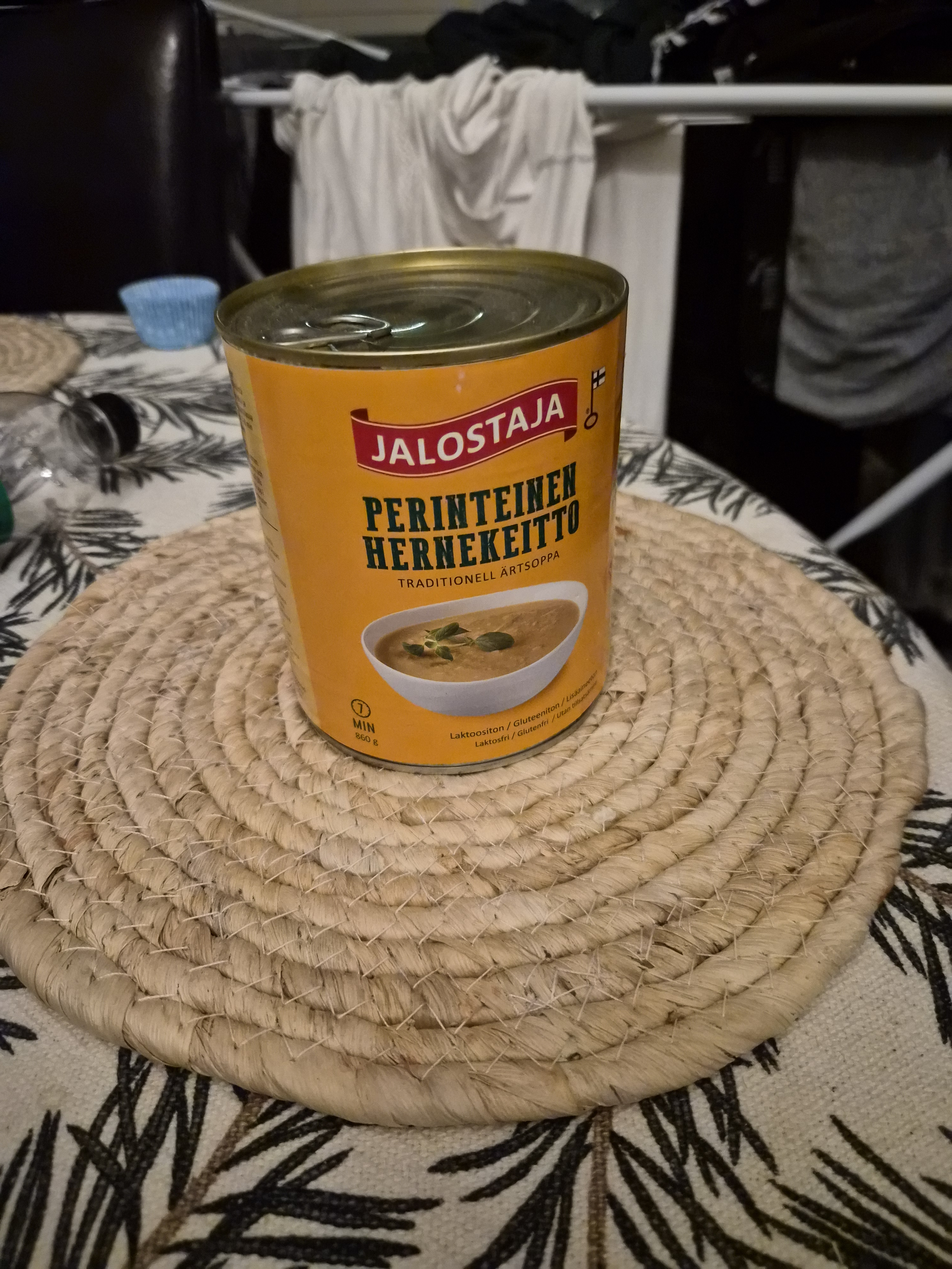Konservburk: (199, 252, 628, 780)
